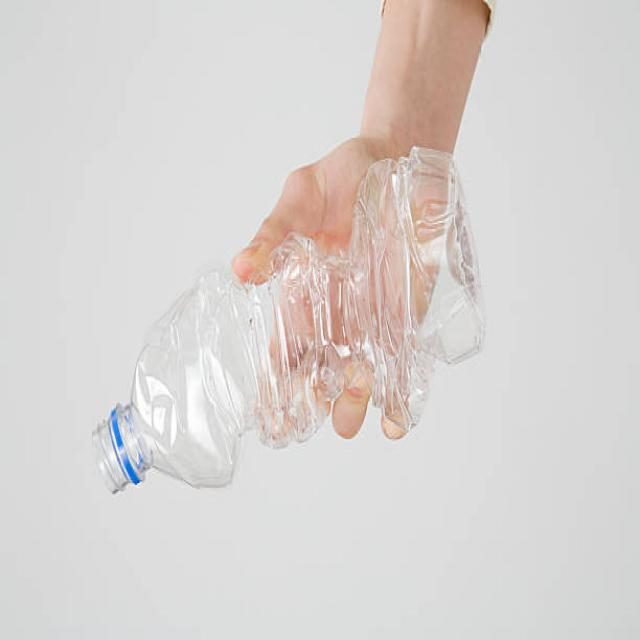plastic: (93, 157, 486, 500)
